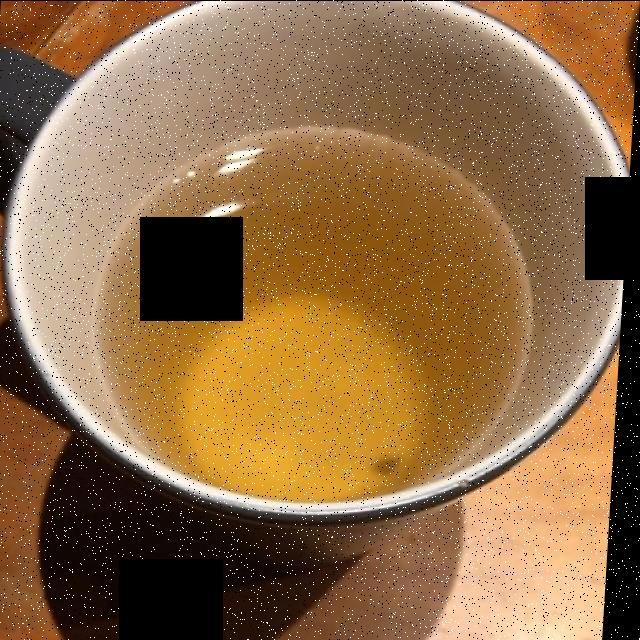tea: (112, 132, 526, 495)
